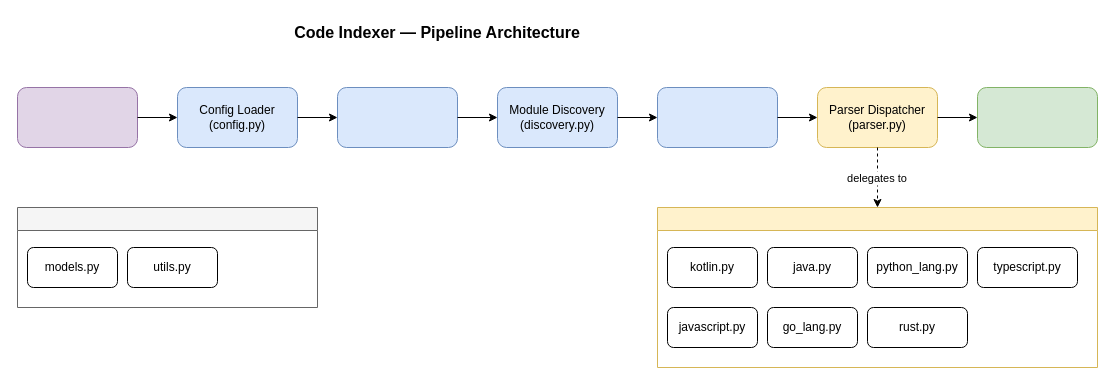
Image size: 1115x385. Some labels were removed from this diagram. The box of each missing label's shape, as (x1, y1, x2, y2) in pixels:
CLI Input (argparse): (16, 86, 138, 148)
File Scanner (scanner.py): (656, 86, 778, 148)
Language Parsers: (656, 206, 1098, 368)
Output Generator (generator.py): (976, 86, 1098, 148)
Project Detector (detector.py): (336, 86, 458, 148)
Shared: (16, 206, 318, 308)
